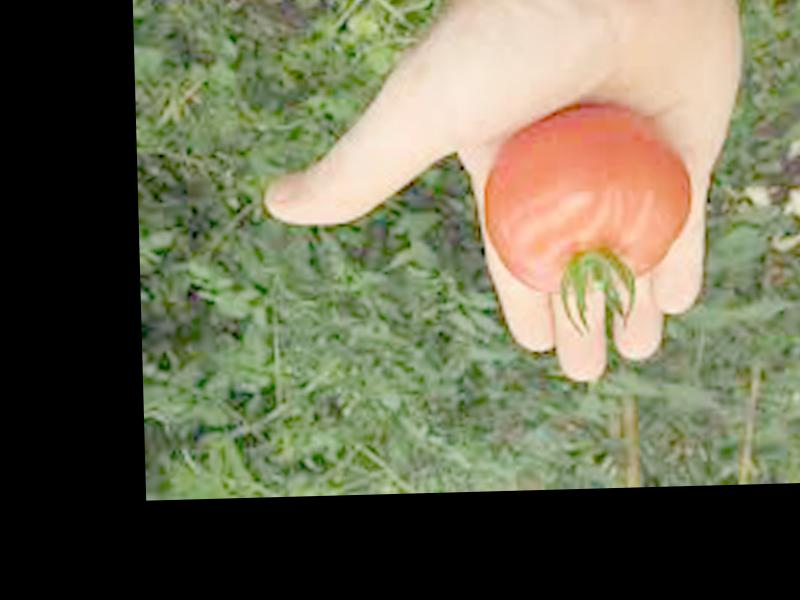Tomato: (479, 104, 697, 293)
